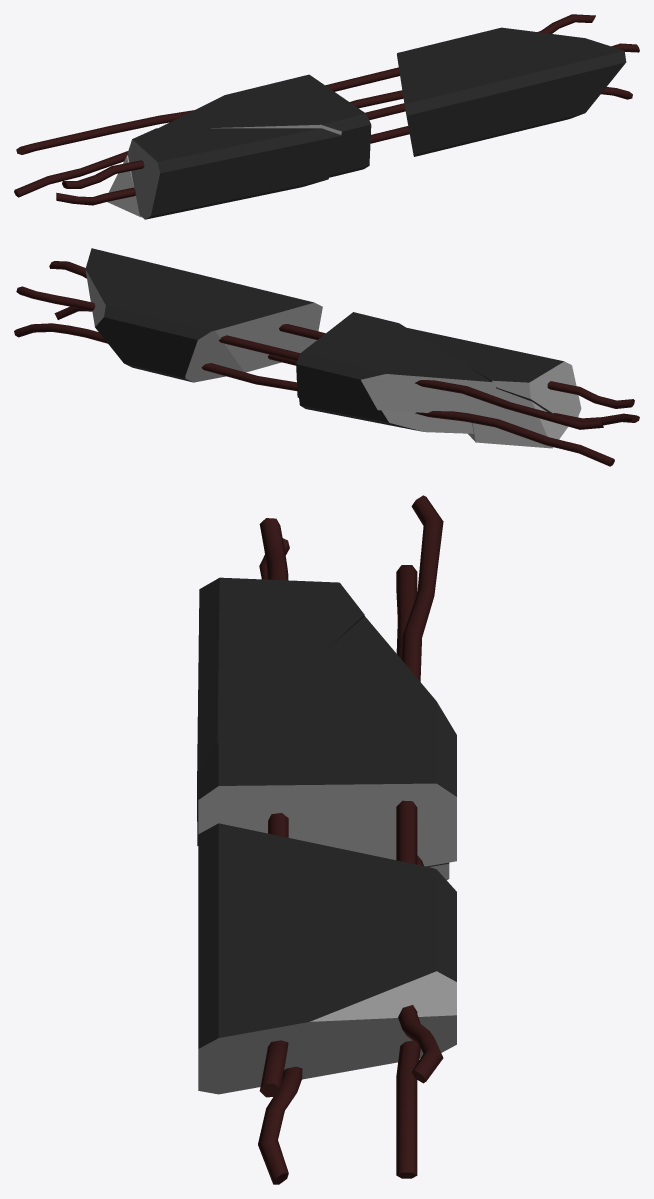
Rendered from P_PoutreCassé2.fbx.
3 renders of one model, top to bottom at view 1: azimuth 30°, elevation 25°; view 2: azimuth 150°, elevation 25°; view 3: azimuth 270°, elevation 25°, orthographic. The views are drawn at different scales.
Visible parts, largest first — view 1: P_PoutreCassé2; view 2: P_PoutreCassé2; view 3: P_PoutreCassé2.
Boxes of the visible parts, x1=… form: P_PoutreCassé2: x1=14, y1=14, x2=639, y2=219; P_PoutreCassé2: x1=14, y1=248, x2=639, y2=466; P_PoutreCassé2: x1=197, y1=495, x2=456, y2=1184.
Size of the model in its own units: 411 by 44.45 by 78.36.
